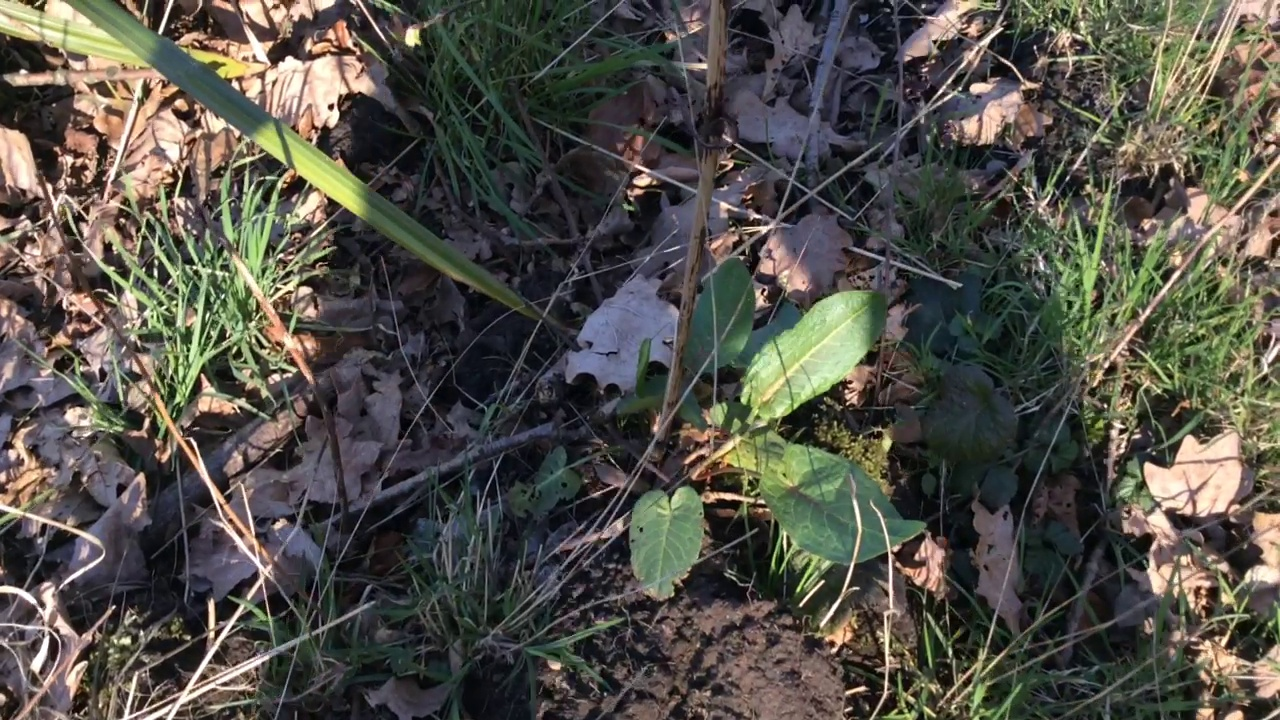rumex: (520, 259, 924, 599)
